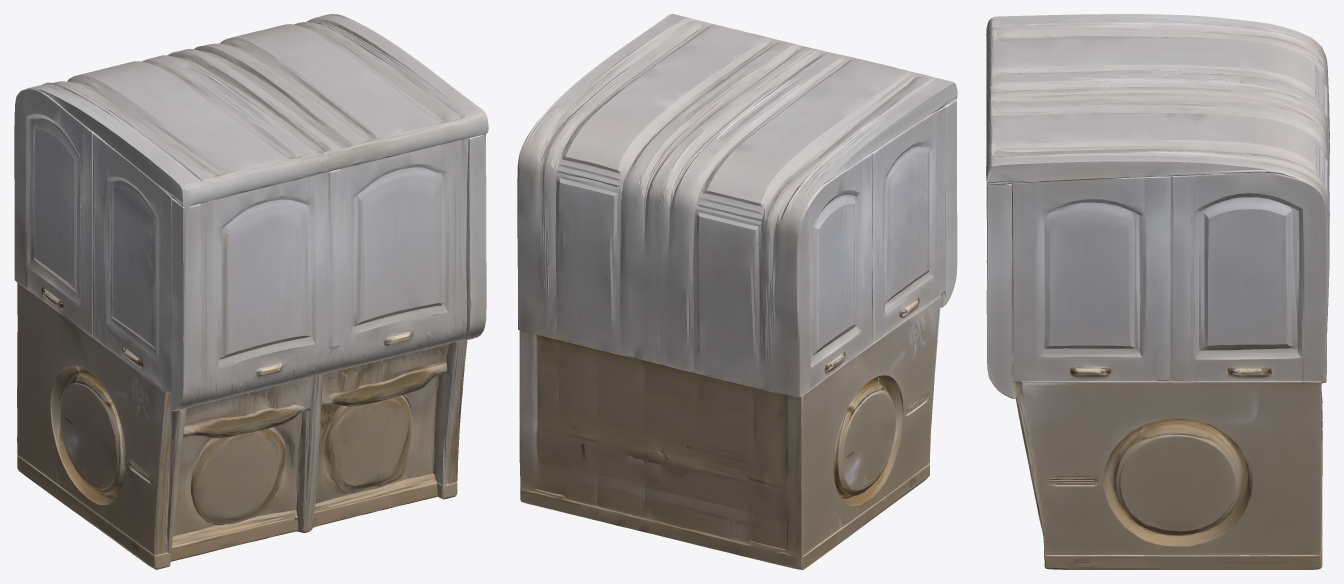
Rendered from double-basin-sink.glb.
3 views of the same model, side by side, from view 1: azimuth 30°, elevation 25°; view 2: azimuth 150°, elevation 25°; view 3: azimuth 270°, elevation 25° (orthographic). The views are drawn at different scales.
Parts seen in each view (by area): view 1: model; view 2: model; view 3: model.
Part boxes in pixels (<box>): model: <box>14,14,488,569</box>; model: <box>517,14,957,569</box>; model: <box>986,14,1329,569</box>.
Bounding box in the file's own units: 1.51 × 1.9 × 1.44.
Materials: 1 (1 with a texture image).
